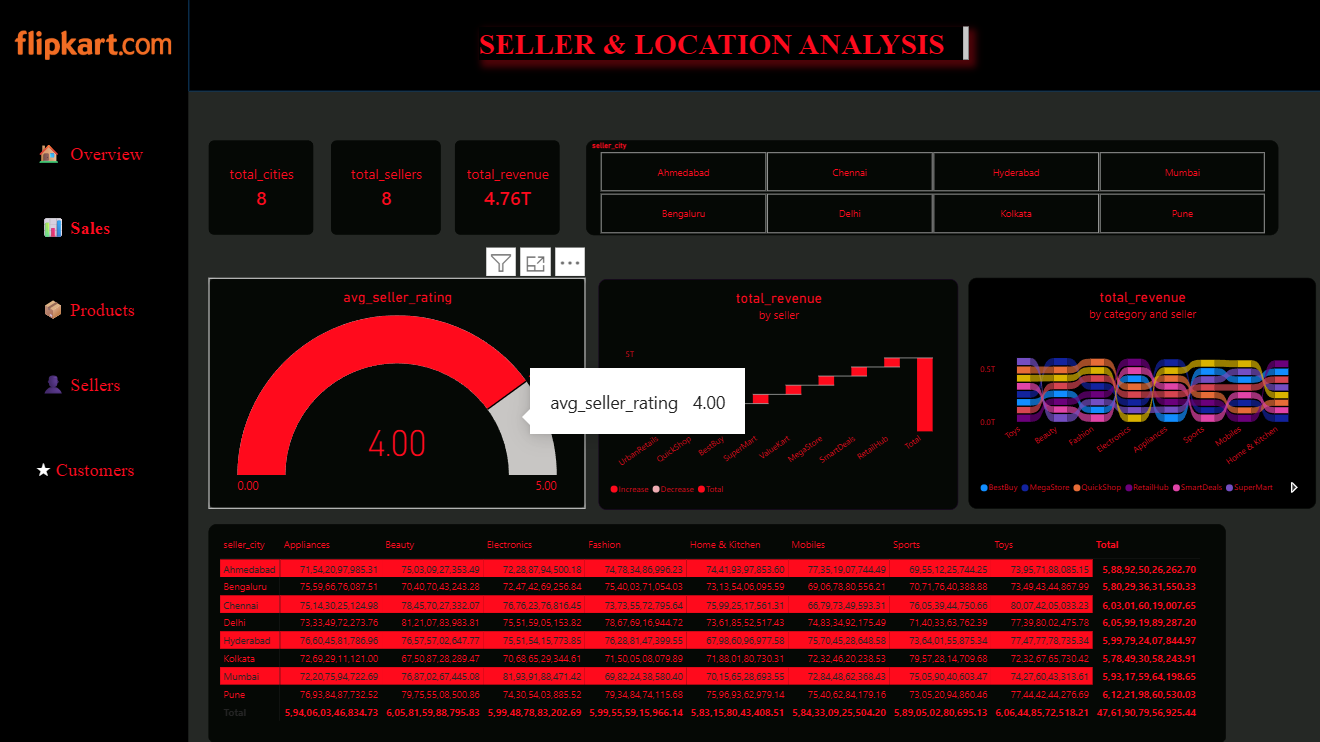

What the dashboard file says about the page in this screenshot:
{"tool":"powerbi","page":{"name":"Seller & Location Analysis","canvas":[1920,1080],"ordinal":3},"visuals":[{"type":"gauge","fields":{"Y":["calculation_table.avg_seller_rating"]},"box":[307.6,403.6,546.5,334.8],"z":0},{"type":"ribbonChart","fields":{"Category":["flipkard.category"],"Series":["flipkard.seller"],"Y":["calculation_table.total_revenue"]},"box":[1407.9,403.6,503.1,334.8],"z":1000},{"type":"cardVisual","fields":{"Data":["calculation_tbl.total_sellers"]},"box":[485,204.5,159.3,137.5],"z":2000},{"type":"cardVisual","fields":{"Data":["calculation_tbl.total_cities"]},"box":[307.6,204.5,152,137.5],"z":3000},{"type":"shape","box":[278.7,0,1641.4,133.9],"z":4000},{"type":"textbox","box":[698.5,39.8,709.4,48.9],"z":4001},{"type":"shape","box":[0,0,278.7,1080.4],"z":4002},{"type":"textbox","box":[57.9,204.5,157.4,47.1],"z":4003},{"type":"textbox","box":[57.9,311.3,157.4,59.7],"z":4004},{"type":"textbox","box":[57.9,430.7,157.4,59.7],"z":4005},{"type":"textbox","box":[57.9,539.3,157.4,59.7],"z":4006},{"type":"textbox","box":[57.9,662.3,157.4,56.1],"z":4007},{"type":"pivotTable","fields":{"Columns":["flipkard.category"],"Rows":["flipkard.seller_city"],"Values":["calculation_tbl.total_revenue"]},"box":[307.6,760.1,1473.1,320.3],"z":4008},{"type":"cardVisual","fields":{"Data":["calculation_tbl.total_revenue"]},"box":[664.1,204.5,152,137.5],"z":4010},{"type":"slicer","fields":{"Values":["flipkard.seller_city"]},"box":[854.2,204.5,1002.6,137.5],"z":4011},{"type":"waterfallChart","fields":{"Category":["flipkard.seller"],"Y":["calculation_tbl.total_revenue"]},"box":[872.3,405.4,521.2,334.8],"z":4012},{"type":"image","box":[27.1,14.5,226.2,105],"z":4013},{"type":"actionButton","box":[45.2,204.5,226.2,39.8],"z":4014},{"type":"actionButton","box":[45.2,311.3,226.2,39.8],"z":4015},{"type":"actionButton","box":[45.2,421.7,226.2,39.8],"z":4016},{"type":"actionButton","box":[45.2,539.3,226.2,39.8],"z":4017},{"type":"actionButton","box":[45.2,662.3,226.2,39.8],"z":4018}]}

Visuals, with their boxes on the page's 1920x1080 design canvas (x1, y1, x2, y2). These are canvas units, not pixel positions in the 1320x742 screenshot, which may show the page scaled, cropped or inside an application window:
gauge - calculation_table.avg_seller_rating: <region>308, 404, 854, 738</region>
ribbonChart - flipkard.category x flipkard.seller: <region>1408, 404, 1911, 738</region>
cardVisual - calculation_tbl.total_sellers: <region>485, 204, 644, 342</region>
cardVisual - calculation_tbl.total_cities: <region>308, 204, 460, 342</region>
shape: <region>279, 0, 1920, 134</region>
textbox: <region>698, 40, 1408, 89</region>
shape: <region>0, 0, 279, 1080</region>
textbox: <region>58, 204, 215, 252</region>
textbox: <region>58, 311, 215, 371</region>
textbox: <region>58, 431, 215, 490</region>
textbox: <region>58, 539, 215, 599</region>
textbox: <region>58, 662, 215, 718</region>
pivotTable - flipkard.category x flipkard.seller_city: <region>308, 760, 1781, 1080</region>
cardVisual - calculation_tbl.total_revenue: <region>664, 204, 816, 342</region>
slicer - flipkard.seller_city: <region>854, 204, 1857, 342</region>
waterfallChart - flipkard.seller x calculation_tbl.total_revenue: <region>872, 405, 1394, 740</region>
image: <region>27, 14, 253, 120</region>
actionButton: <region>45, 204, 271, 244</region>
actionButton: <region>45, 311, 271, 351</region>
actionButton: <region>45, 422, 271, 462</region>
actionButton: <region>45, 539, 271, 579</region>
actionButton: <region>45, 662, 271, 702</region>
